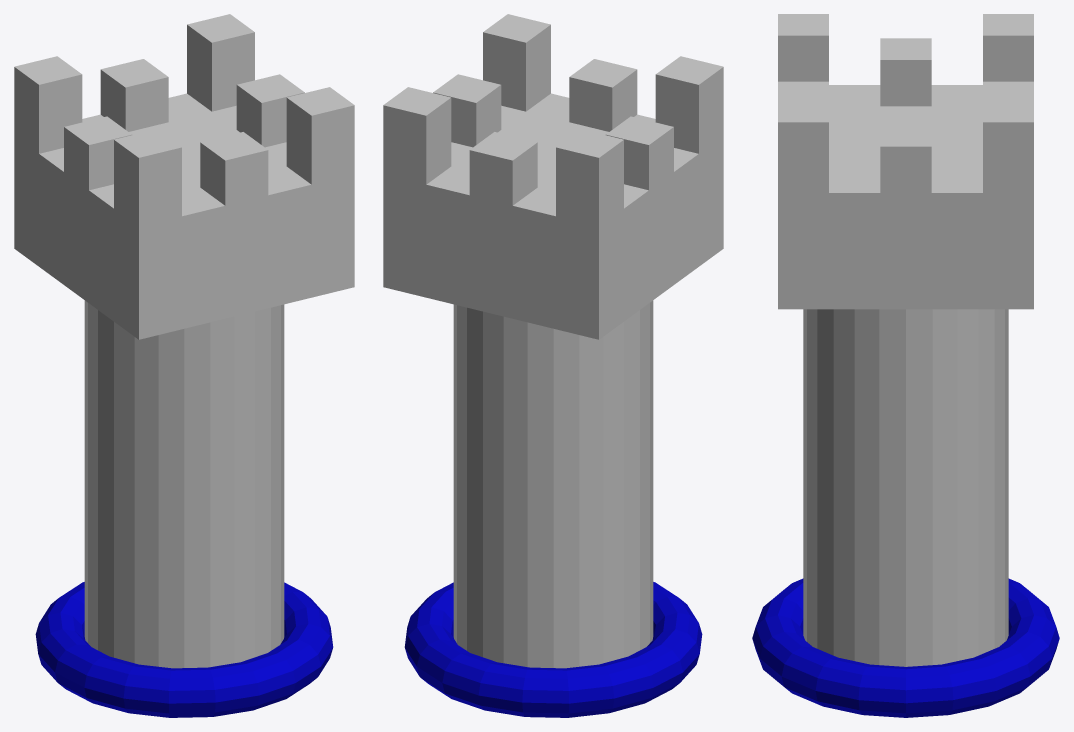
The model's file is WhiteRook.obj.
The picture shows the model from 3 angles, left to right: view 1: azimuth 30°, elevation 25°; view 2: azimuth 150°, elevation 25°; view 3: azimuth 270°, elevation 25°; orthographic projection. The views are drawn at different scales.
Visible parts, largest first — view 1: Cylinder_Cylinder.004, Cube_Cube.002, Torus.004, Cube.006_Cube.008, Cube.005_Cube.007, Cube.003_Cube.005, Cube.002_Cube.004, Cube.004_Cube.006, Cube.001_Cube.003, Cube.008_Cube.010, Cube.007_Cube.009; view 2: Cylinder_Cylinder.004, Cube_Cube.002, Torus.004, Cube.002_Cube.004, Cube.003_Cube.005, Cube.005_Cube.007, Cube.006_Cube.008, Cube.001_Cube.003, Cube.004_Cube.006, Cube.008_Cube.010, Cube.007_Cube.009; view 3: Cylinder_Cylinder.004, Cube_Cube.002, Torus.004, Cube.002_Cube.004, Cube.006_Cube.008, Cube.008_Cube.010, Cube.007_Cube.009, Cube.003_Cube.005, Cube.005_Cube.007, Cube.001_Cube.003, Cube.004_Cube.006.
Part boxes in pixels (x1,y1,x2,y2): Cylinder_Cylinder.004: (84, 300, 284, 668); Cube_Cube.002: (14, 93, 354, 339); Torus.004: (35, 582, 333, 717); Cube.006_Cube.008: (286, 87, 354, 185); Cube.005_Cube.007: (114, 129, 181, 227); Cube.003_Cube.005: (14, 56, 82, 153); Cube.002_Cube.004: (187, 14, 254, 111); Cube.004_Cube.006: (200, 132, 268, 205); Cube.001_Cube.003: (100, 59, 168, 131); Cube.008_Cube.010: (64, 116, 131, 190); Cube.007_Cube.009: (236, 74, 304, 147); Cylinder_Cylinder.004: (453, 300, 653, 668); Cube_Cube.002: (383, 93, 723, 339); Torus.004: (404, 582, 702, 717); Cube.002_Cube.004: (383, 87, 451, 185); Cube.003_Cube.005: (556, 129, 623, 227); Cube.005_Cube.007: (655, 56, 723, 154); Cube.006_Cube.008: (483, 14, 550, 111); Cube.001_Cube.003: (469, 132, 537, 205); Cube.004_Cube.006: (569, 59, 637, 131); Cube.008_Cube.010: (606, 116, 673, 190); Cube.007_Cube.009: (433, 74, 501, 147); Cylinder_Cylinder.004: (803, 309, 1008, 666); Cube_Cube.002: (778, 85, 1033, 309); Torus.004: (752, 578, 1059, 717); Cube.002_Cube.004: (983, 100, 1033, 194); Cube.006_Cube.008: (778, 100, 828, 194); Cube.008_Cube.010: (880, 38, 931, 106); Cube.007_Cube.009: (880, 125, 931, 192); Cube.003_Cube.005: (983, 14, 1033, 81); Cube.005_Cube.007: (778, 14, 828, 81); Cube.001_Cube.003: (983, 81, 1033, 100); Cube.004_Cube.006: (778, 81, 828, 100).
Size of the model in its own units: 0.6 by 1.28 by 0.6.
